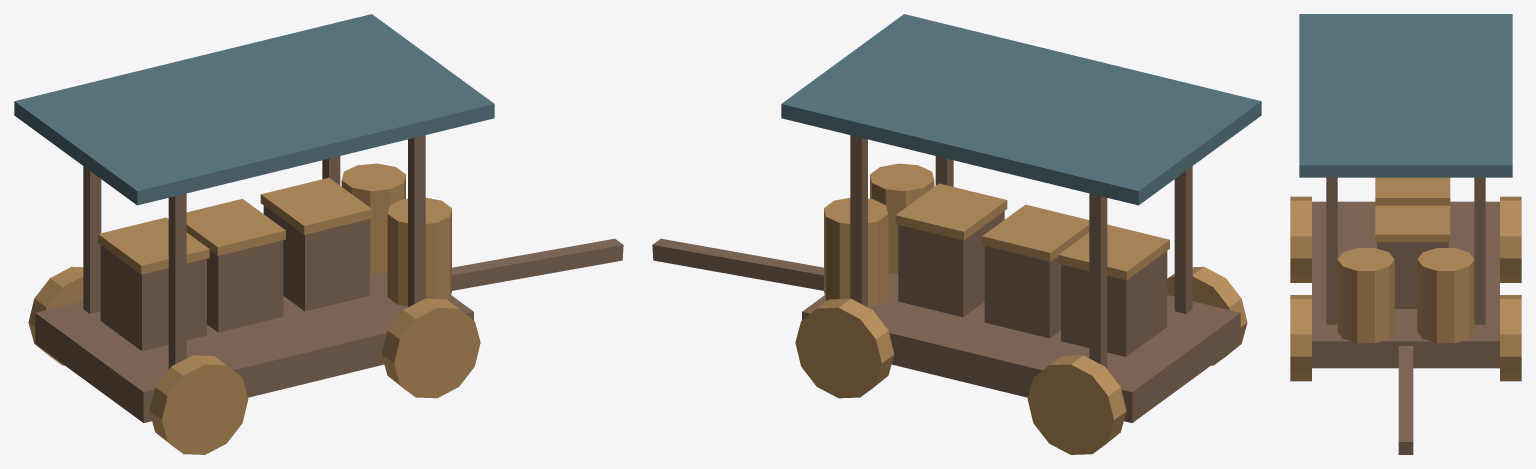
File: SM_Waystation.fbx
3 views of the same model, side by side, from view 1: azimuth 30°, elevation 25°; view 2: azimuth 150°, elevation 25°; view 3: azimuth 270°, elevation 25° (orthographic). The views are drawn at different scales.
Visible parts, largest first — view 1: SM_Waystation; view 2: SM_Waystation; view 3: SM_Waystation.
Part boxes in pixels (x1,y1,x2,y2): SM_Waystation: [14, 14, 623, 454]; SM_Waystation: [652, 14, 1261, 454]; SM_Waystation: [1290, 14, 1521, 454].
Bounding box in the file's own units: 4.77 × 2.03 × 2.31.
